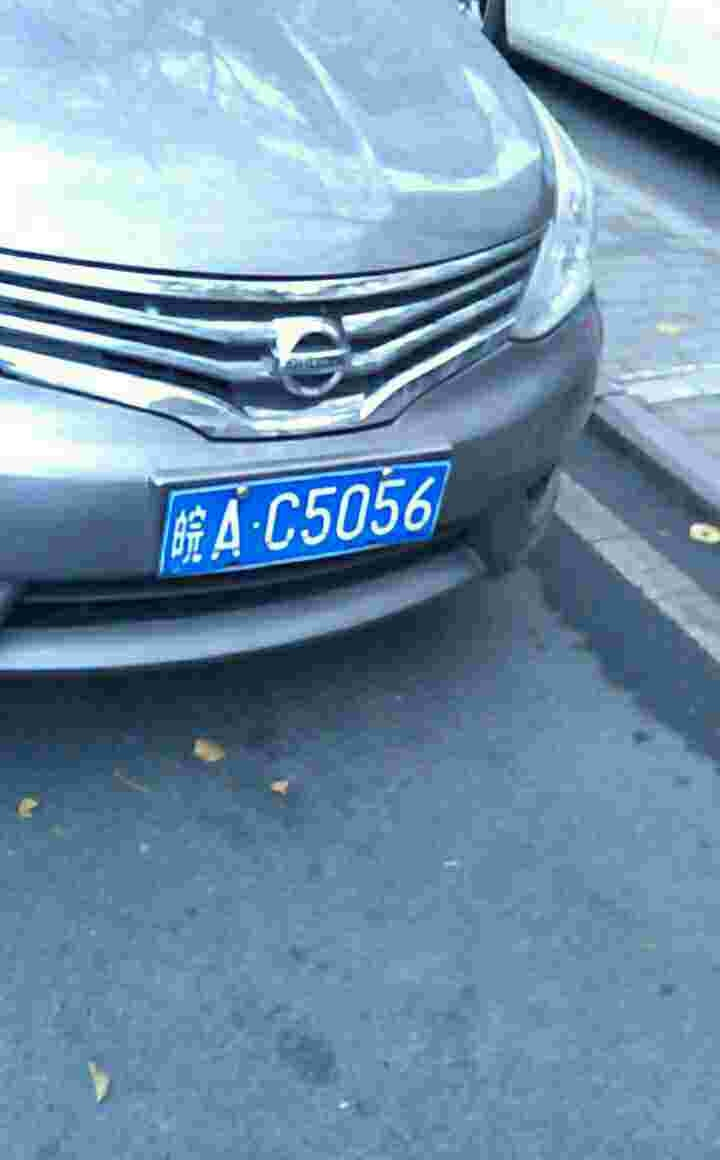license_plate: (163, 452, 458, 588)
